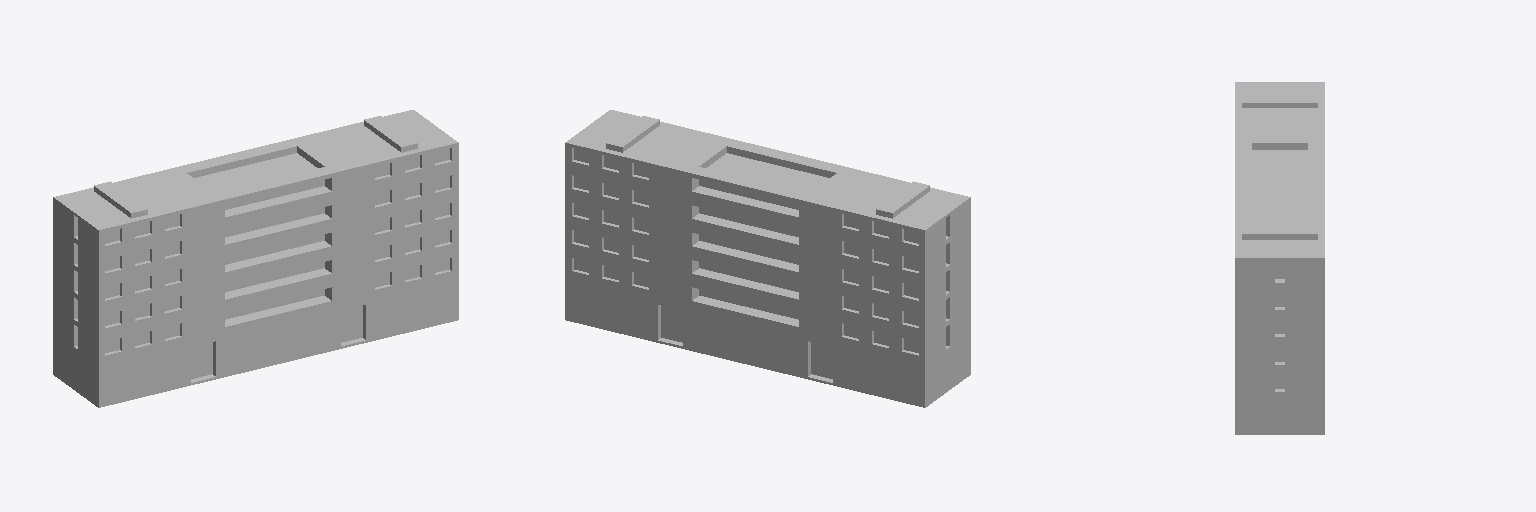
Rendered from tower1.obj.
The picture shows the model from 3 angles: view 1: azimuth 30°, elevation 25°; view 2: azimuth 150°, elevation 25°; view 3: azimuth 270°, elevation 25°; orthographic projection.
Parts seen in each view (by area): view 1: 1; view 2: 1; view 3: 1.
Part boxes in pixels (x1,y1,x2,y2): 1: (53,110,458,407); 1: (565,110,970,407); 1: (1235,82,1324,434).
Size of the model in its own units: 55 by 26.75 by 12.